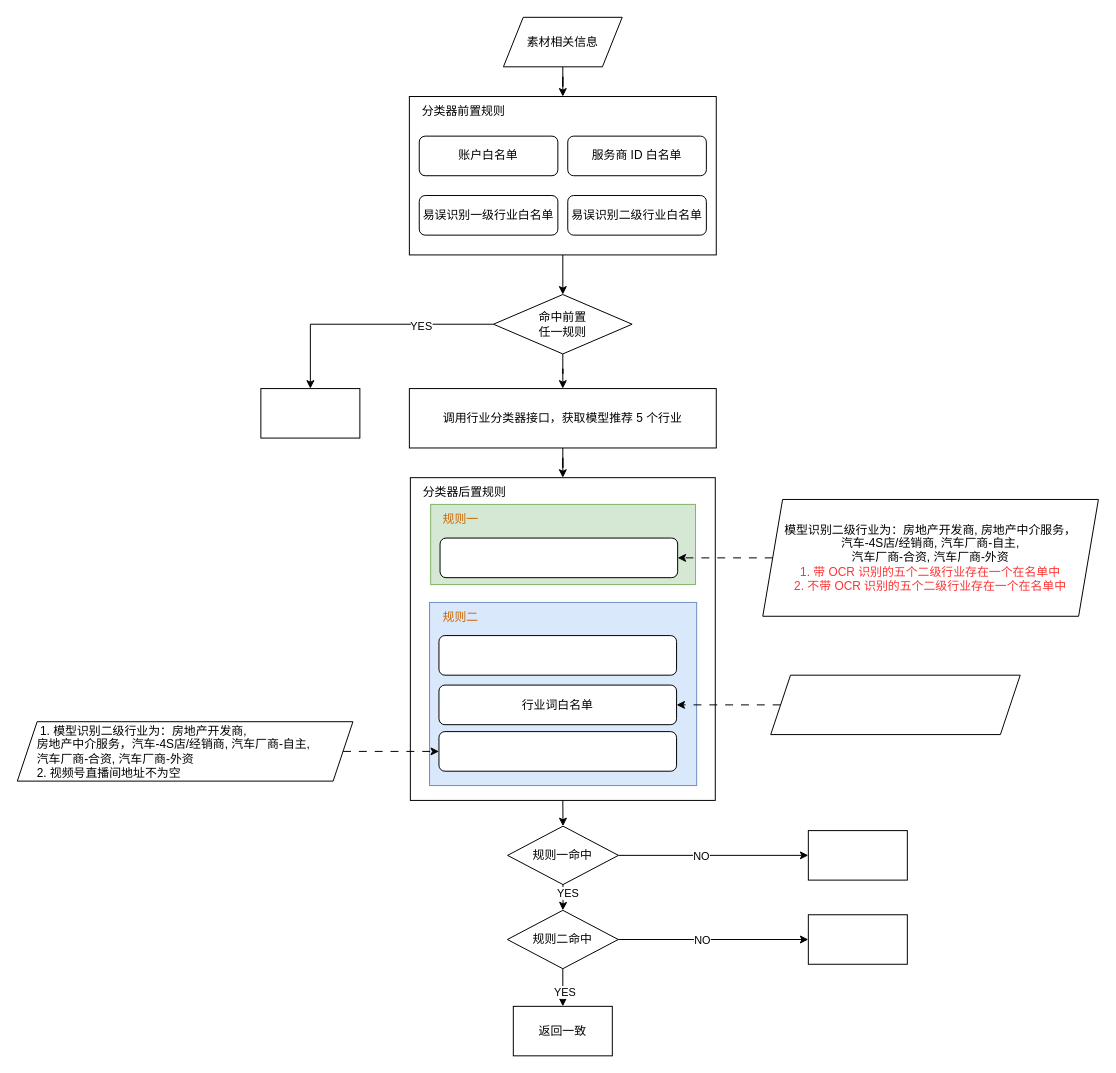
The diagram is 1116 pixels wide and 1073 high, and some of its shapes have lost their labels. The shapes that lost their labels are listed below. From the top down, each one's centre as x and y in pixels, then its label:
the point at 310,413: 返回未知
the point at 558,557: 覆盖行业名单规则
the point at 557,655: top5一级行业一致
the point at 895,704: 1. 开户一级行业为游戏 2. 微信朋友圈昵称为：古宅心慌慌、 桃源深处有人家、 挪对对开心消消
the point at 557,751: 视频号直播间规则
the point at 857,855: 返回未覆盖
the point at 857,939: 返回不一致
